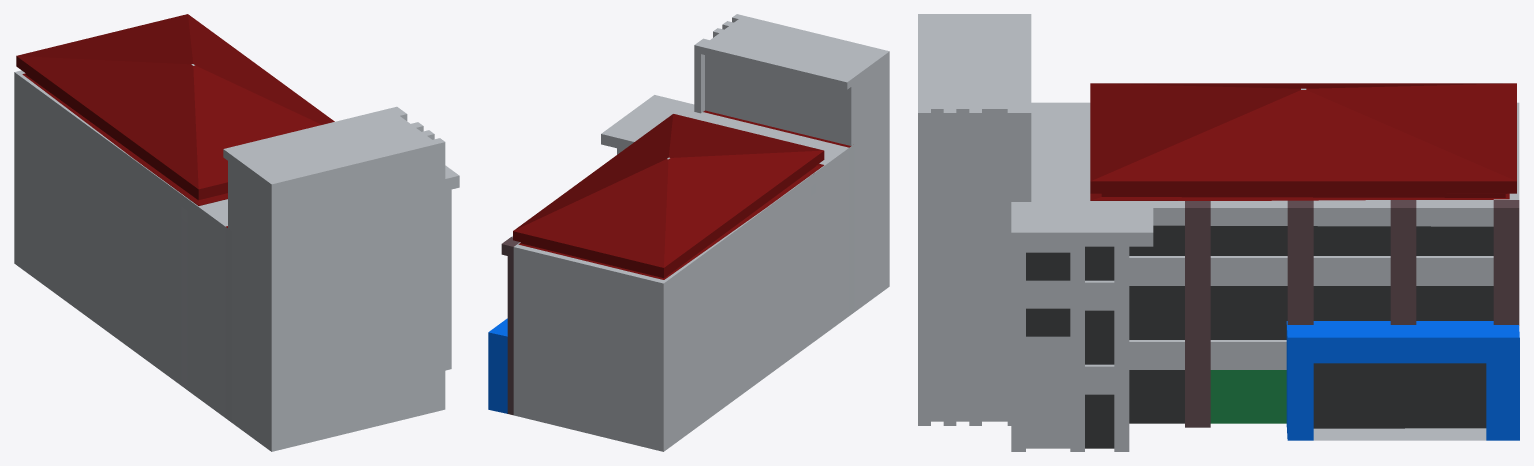
Rendered from Gedung Refrigrasi1.fbx.
3 views of the same model, side by side, from view 1: azimuth 30°, elevation 25°; view 2: azimuth 150°, elevation 25°; view 3: azimuth 270°, elevation 25° (orthographic). The views are drawn at different scales.
Parts seen in each view (by area): view 1: Cube.003; view 2: Cube.003; view 3: Cube.003.
Part boxes in pixels (<box>): Cube.003: <box>14,14,459,451</box>; Cube.003: <box>488,14,889,451</box>; Cube.003: <box>918,14,1519,451</box>.
Bounding box in the file's own units: 640 × 719 × 1252.
1 material, 1 textured.
